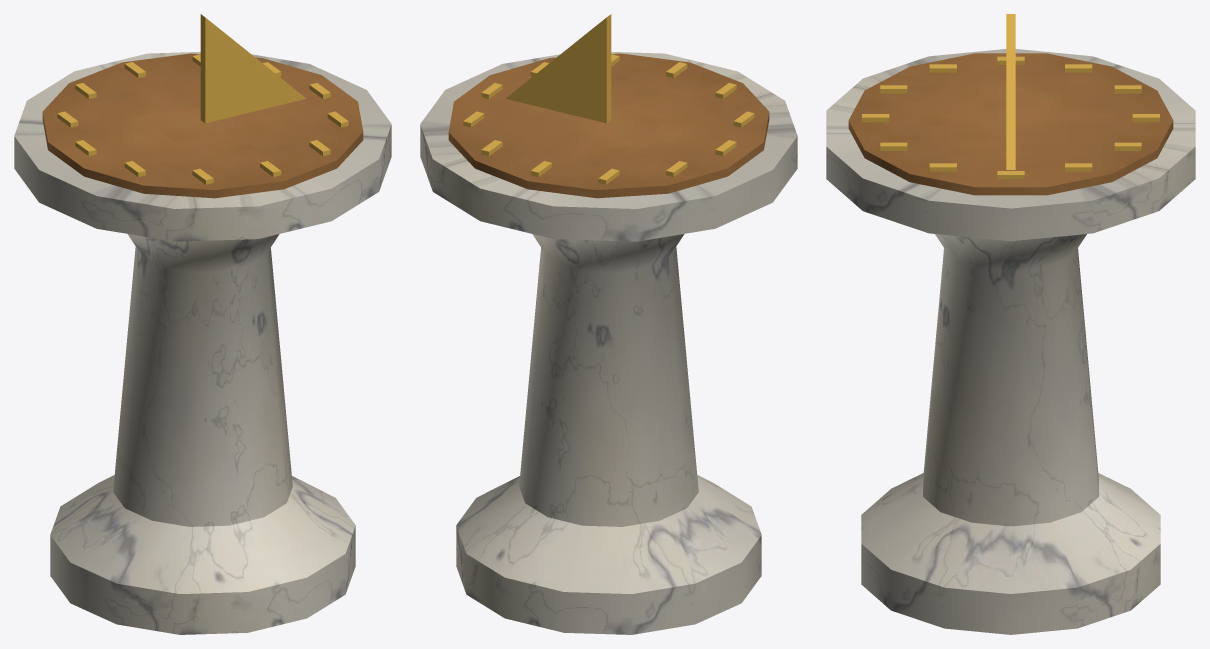
The model's file is decor_sundial.glb.
3 renders of one model, left to right at view 1: azimuth 30°, elevation 25°; view 2: azimuth 150°, elevation 25°; view 3: azimuth 270°, elevation 25°, orthographic.
Parts seen in each view (by area): view 1: marble, bronze, gold; view 2: marble, bronze, gold; view 3: marble, bronze, gold.
Part boxes in pixels (box(x1,y1,x2,y2)): marble: box(14, 52, 391, 634); bronze: box(42, 53, 363, 198); gold: box(57, 14, 348, 184); marble: box(420, 52, 797, 634); bronze: box(448, 53, 769, 198); gold: box(463, 14, 754, 184); marble: box(826, 49, 1195, 634); bronze: box(848, 53, 1173, 195); gold: box(862, 14, 1159, 179).
Size of the model in its own units: 0.84 by 1.36 by 0.8189.
3 materials, 2 textured.
